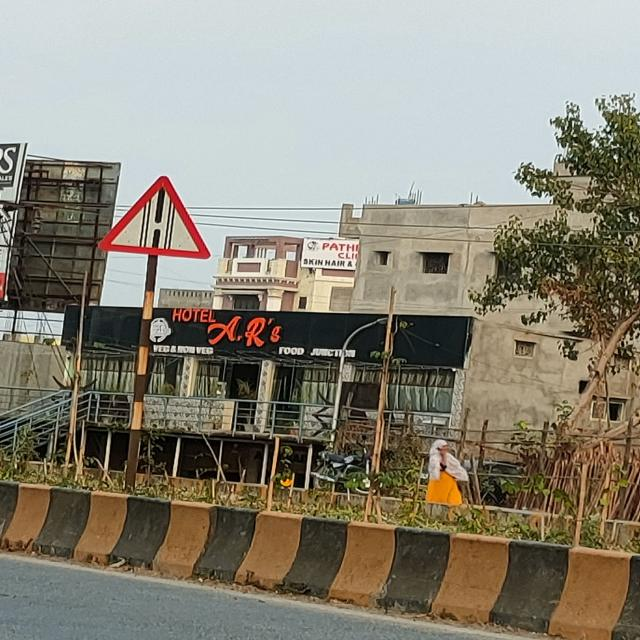GAP_IN_MEDIAN: (97, 177, 215, 259)
